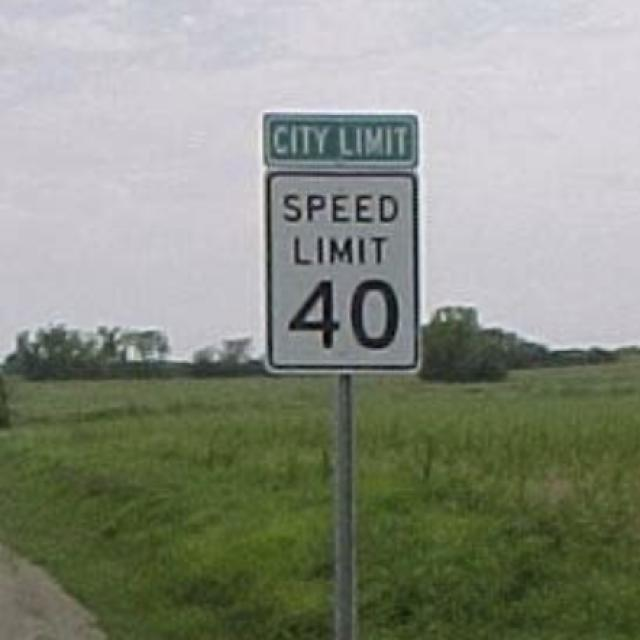speedLimit40: (269, 174, 414, 368)
